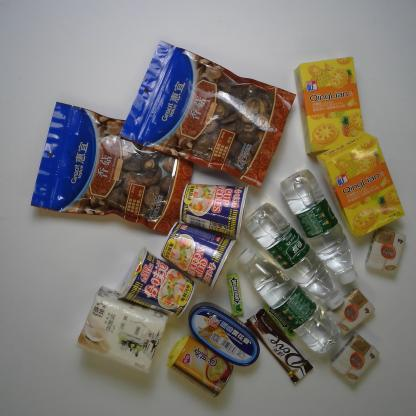Canned Food: (186, 300, 262, 368), (164, 332, 237, 401)
Chocolate: (242, 307, 315, 386)
Dessert: (315, 127, 408, 240), (290, 53, 365, 159)
Dried Food: (118, 37, 298, 190), (25, 98, 196, 237)
Drink: (236, 246, 342, 355), (242, 200, 346, 310), (277, 167, 361, 287)
Gum: (262, 301, 298, 342), (224, 269, 246, 320)
Instant Noodles: (113, 245, 198, 320), (158, 218, 238, 293), (174, 178, 252, 242)
Tissue: (70, 281, 169, 376), (328, 330, 382, 390), (323, 286, 377, 337), (363, 224, 409, 281)
